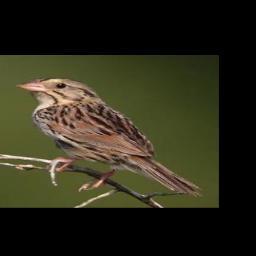Sparrow: (15, 76, 199, 196)
